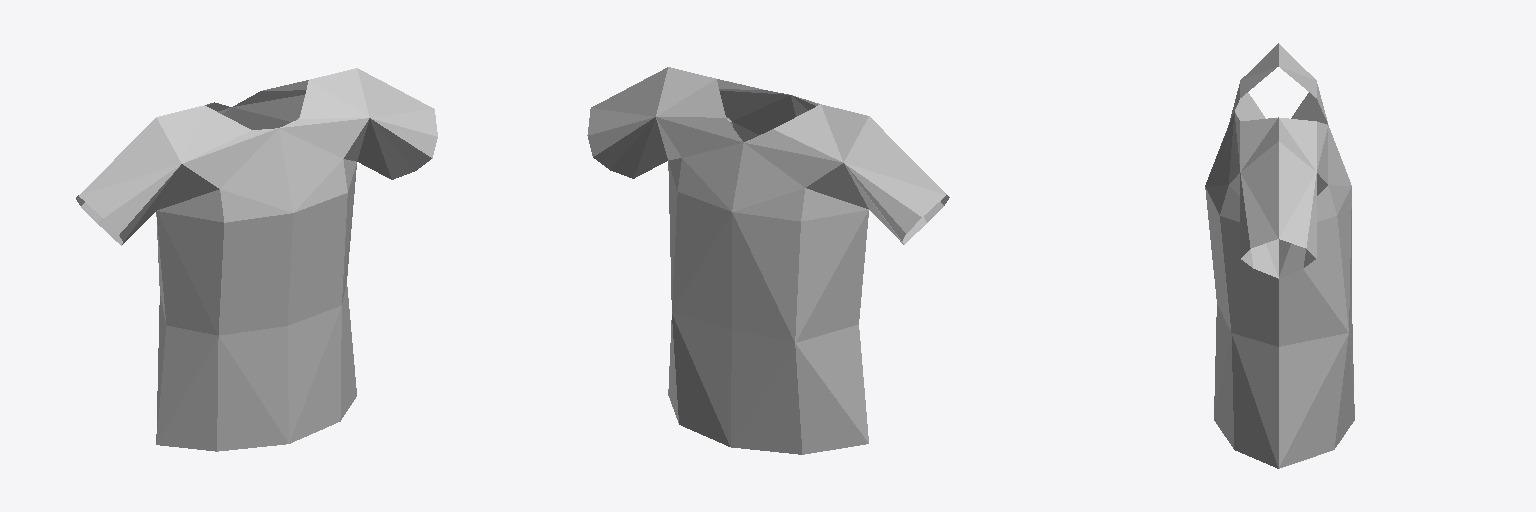
File: red_tshirt_nike.obj
3 renders of one model, left to right at view 1: azimuth 30°, elevation 25°; view 2: azimuth 150°, elevation 25°; view 3: azimuth 270°, elevation 25°, orthographic.
Visible parts, largest first — view 1: Mesh1 Shirt1 Model; view 2: Mesh1 Shirt1 Model; view 3: Mesh1 Shirt1 Model.
Boxes of the visible parts, <box> form: Mesh1 Shirt1 Model: <box>76,68,437,451</box>; Mesh1 Shirt1 Model: <box>587,67,949,454</box>; Mesh1 Shirt1 Model: <box>1205,43,1354,468</box>.
Bounding box in the file's own units: 88.9 × 78.24 × 32.38.